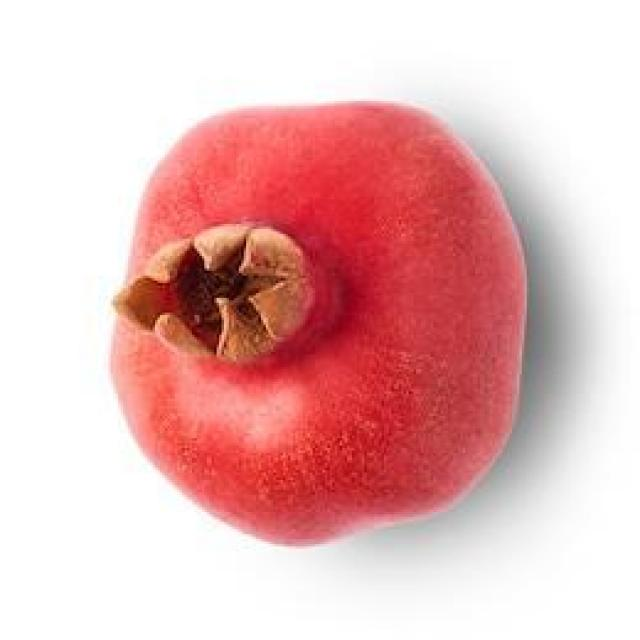Pomegranate: (102, 95, 528, 551)
